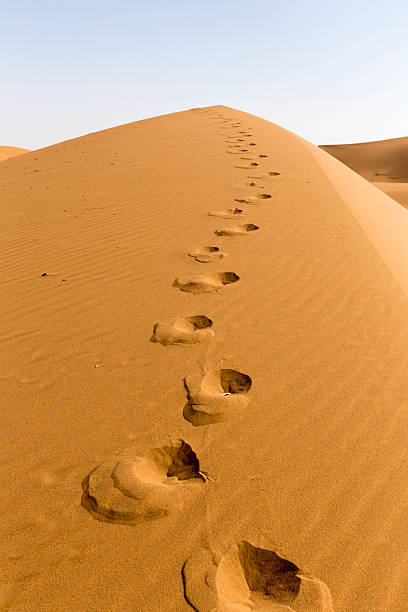animal_foot_print: (182, 540, 332, 611), (81, 440, 205, 524), (183, 369, 251, 425), (150, 315, 214, 345), (172, 272, 238, 294), (188, 246, 226, 262), (214, 223, 258, 236), (207, 207, 243, 218), (235, 193, 271, 204)
